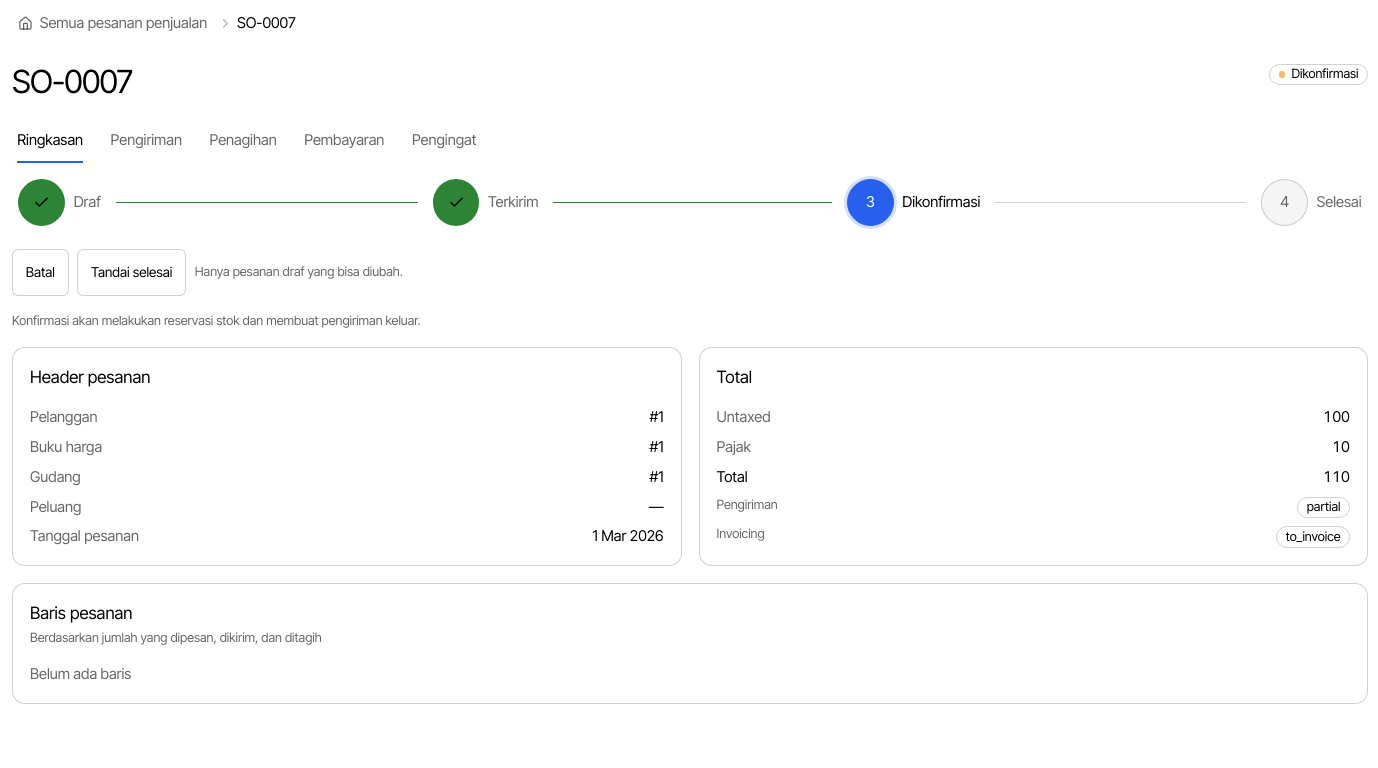
it: SaleOrderDetail extra › disables invoicing when no lines are delivered-unbilled
Click the tab "Penagihan" at x=243, y=141, box [208,117,278,164]
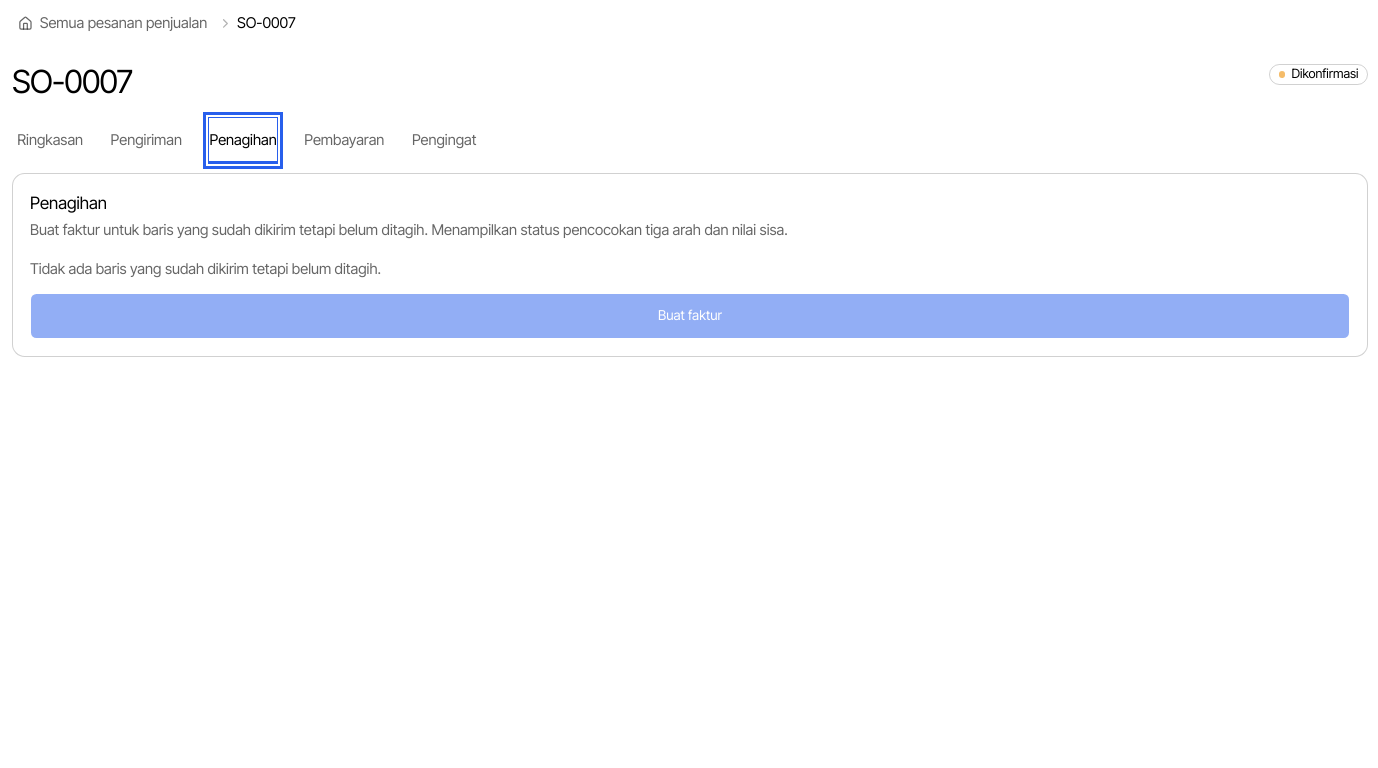
Check: the text "Tidak ada baris yang sudah dikirim tetapi belum ditagih." is shown, box [30,260,381,278]
Check: the button "Buat faktur" is disabled, box [30,293,1350,340]
